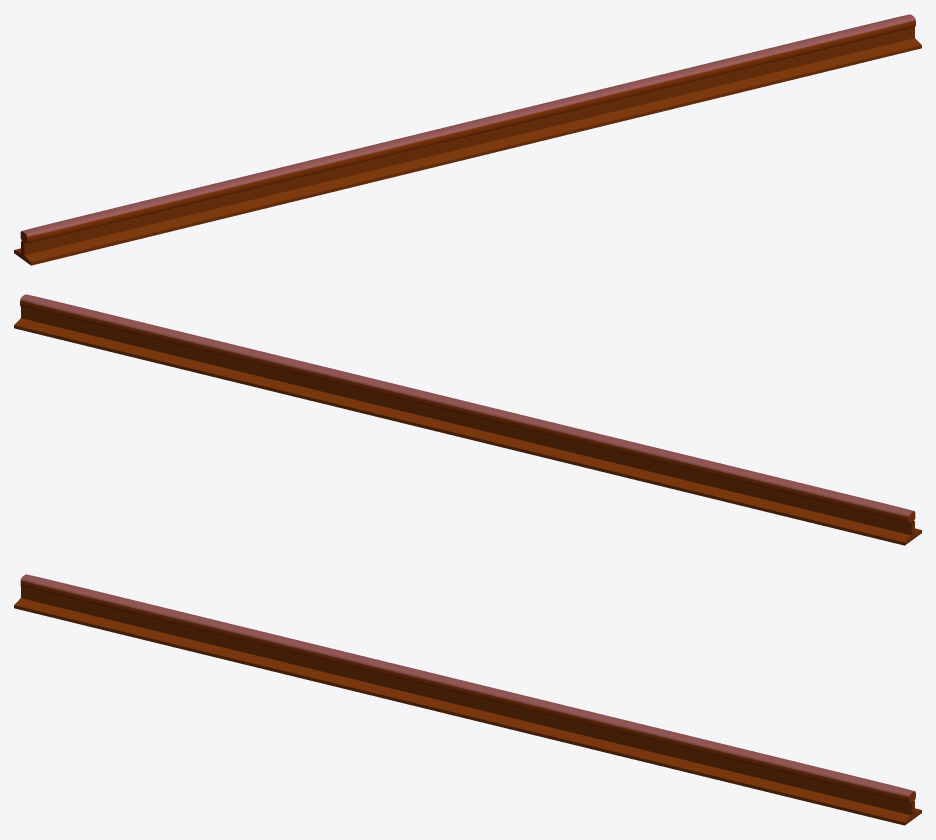
File: rail.fbx
The picture shows the model from 3 angles, top to bottom: view 1: azimuth 30°, elevation 25°; view 2: azimuth 150°, elevation 25°; view 3: azimuth 330°, elevation 25°; orthographic projection.
Visible parts, largest first — view 1: Cube, Cube.001; view 2: Cube, Cube.001; view 3: Cube, Cube.001.
Boxes of the visible parts, <box> form: Cube: <box>14,27,921,265</box>; Cube.001: <box>20,14,915,243</box>; Cube: <box>14,307,921,545</box>; Cube.001: <box>20,294,915,523</box>; Cube: <box>14,586,921,825</box>; Cube.001: <box>20,574,915,803</box>.
Size of the model in its own units: 5869 by 169 by 196.
